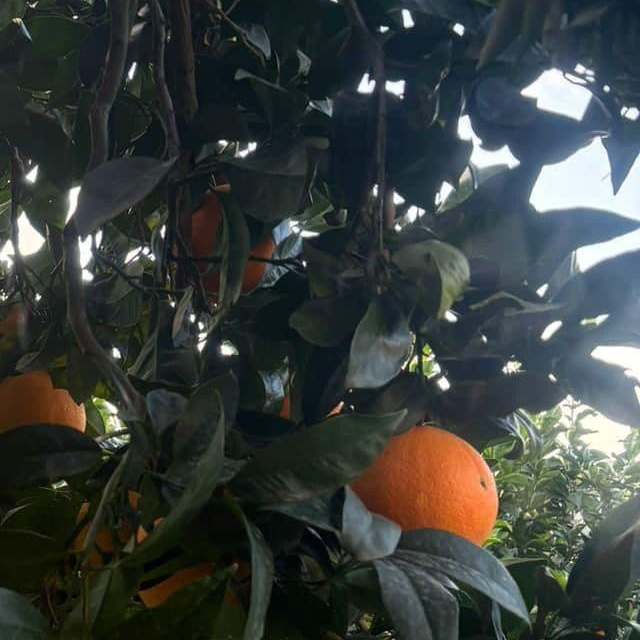orange: (352, 420, 506, 564), (139, 503, 265, 627), (184, 178, 284, 300), (0, 369, 92, 451), (71, 485, 153, 571), (0, 283, 28, 403), (276, 388, 342, 424), (590, 605, 612, 637), (255, 638, 287, 640)
